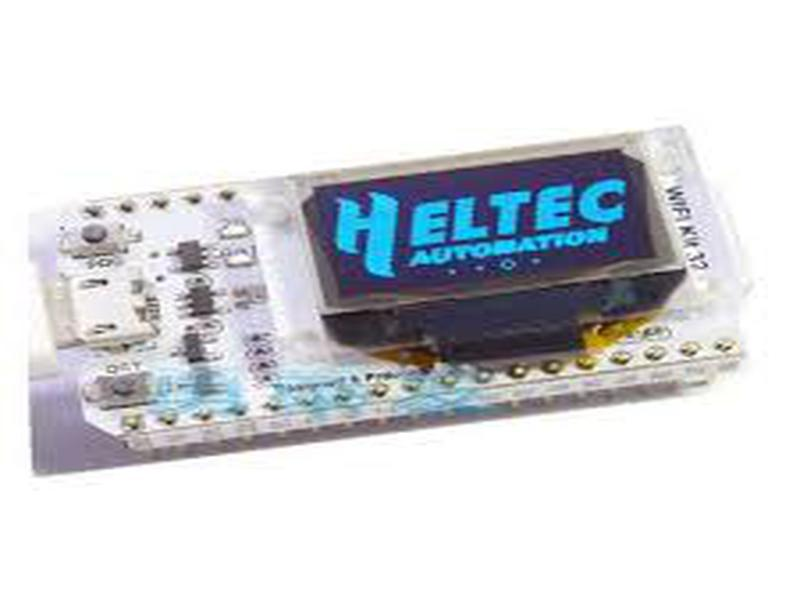Heltec_ESP32_Lora: (25, 119, 758, 492)
